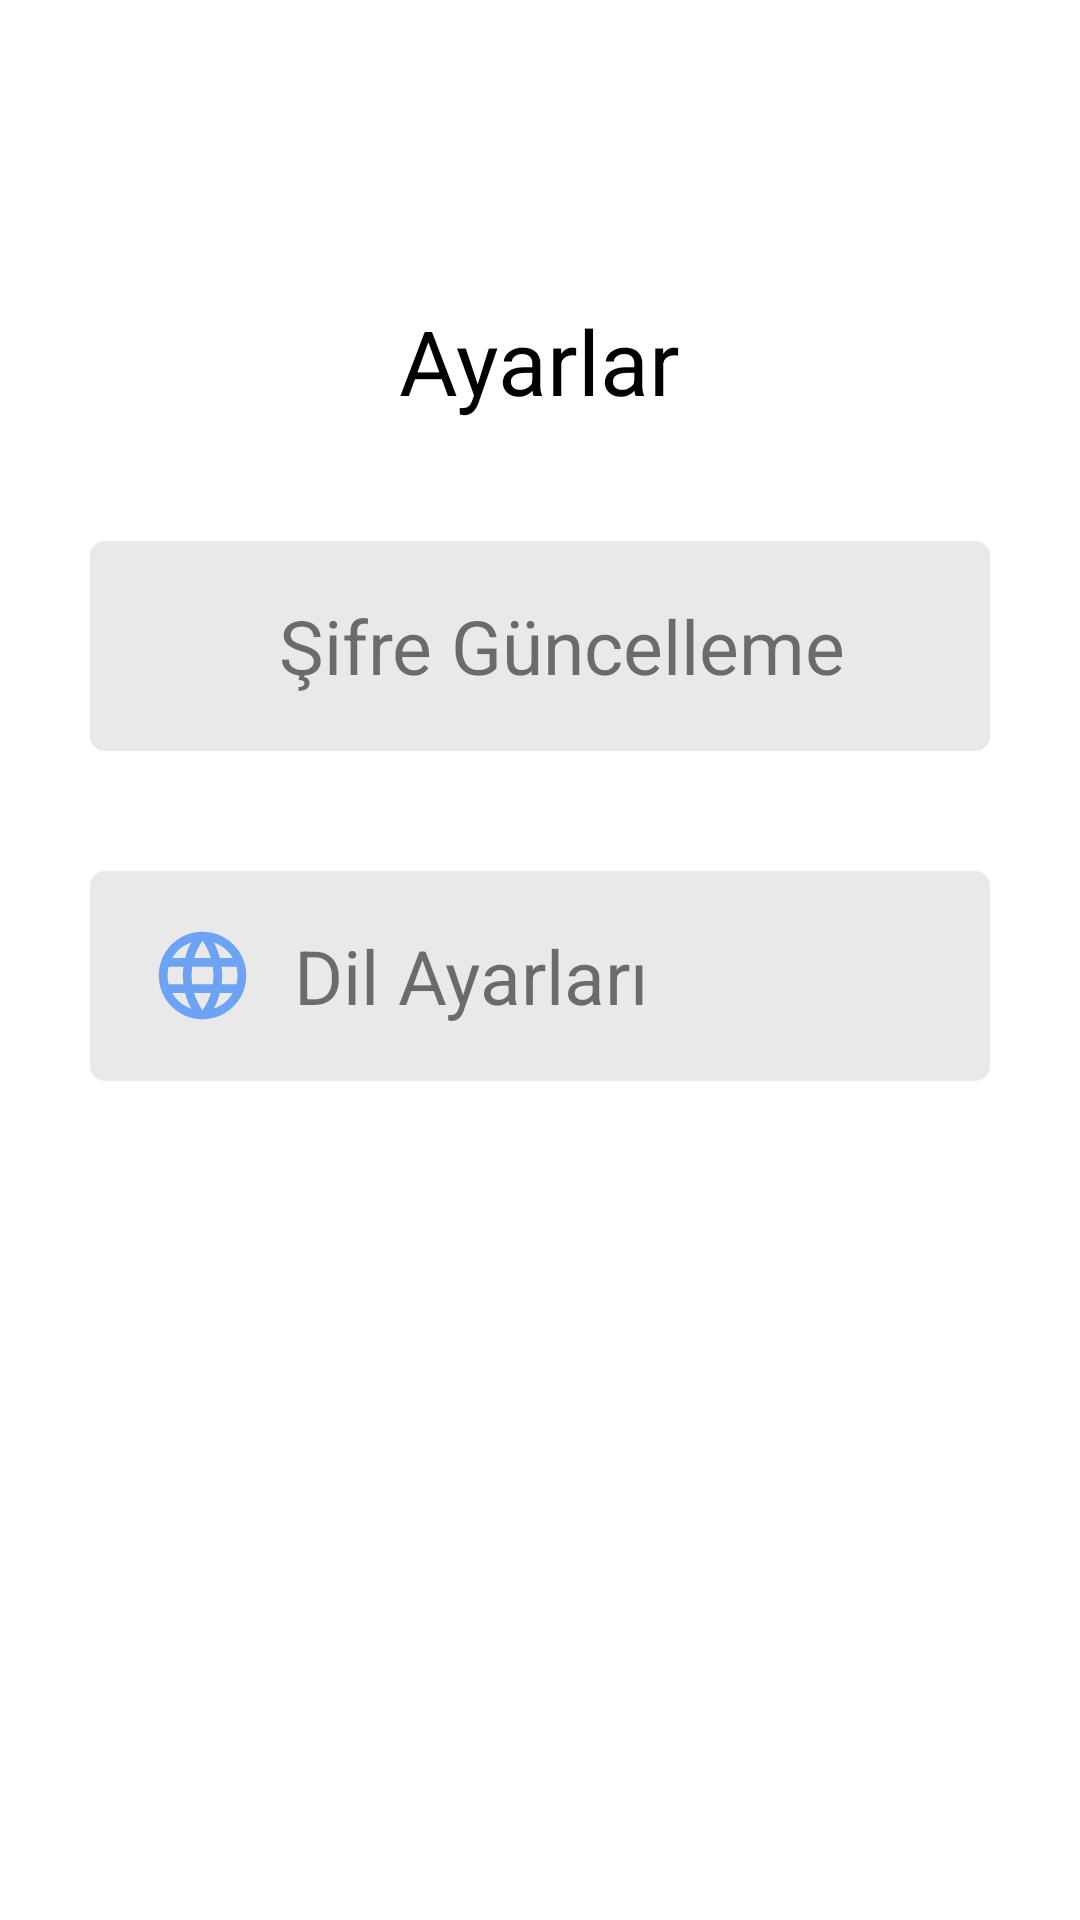

Named icons in this screenshot (1080*1920) and their bounding boxes, detection(x1, y1, x2, y2):
language: detection(158, 931, 247, 1020)
